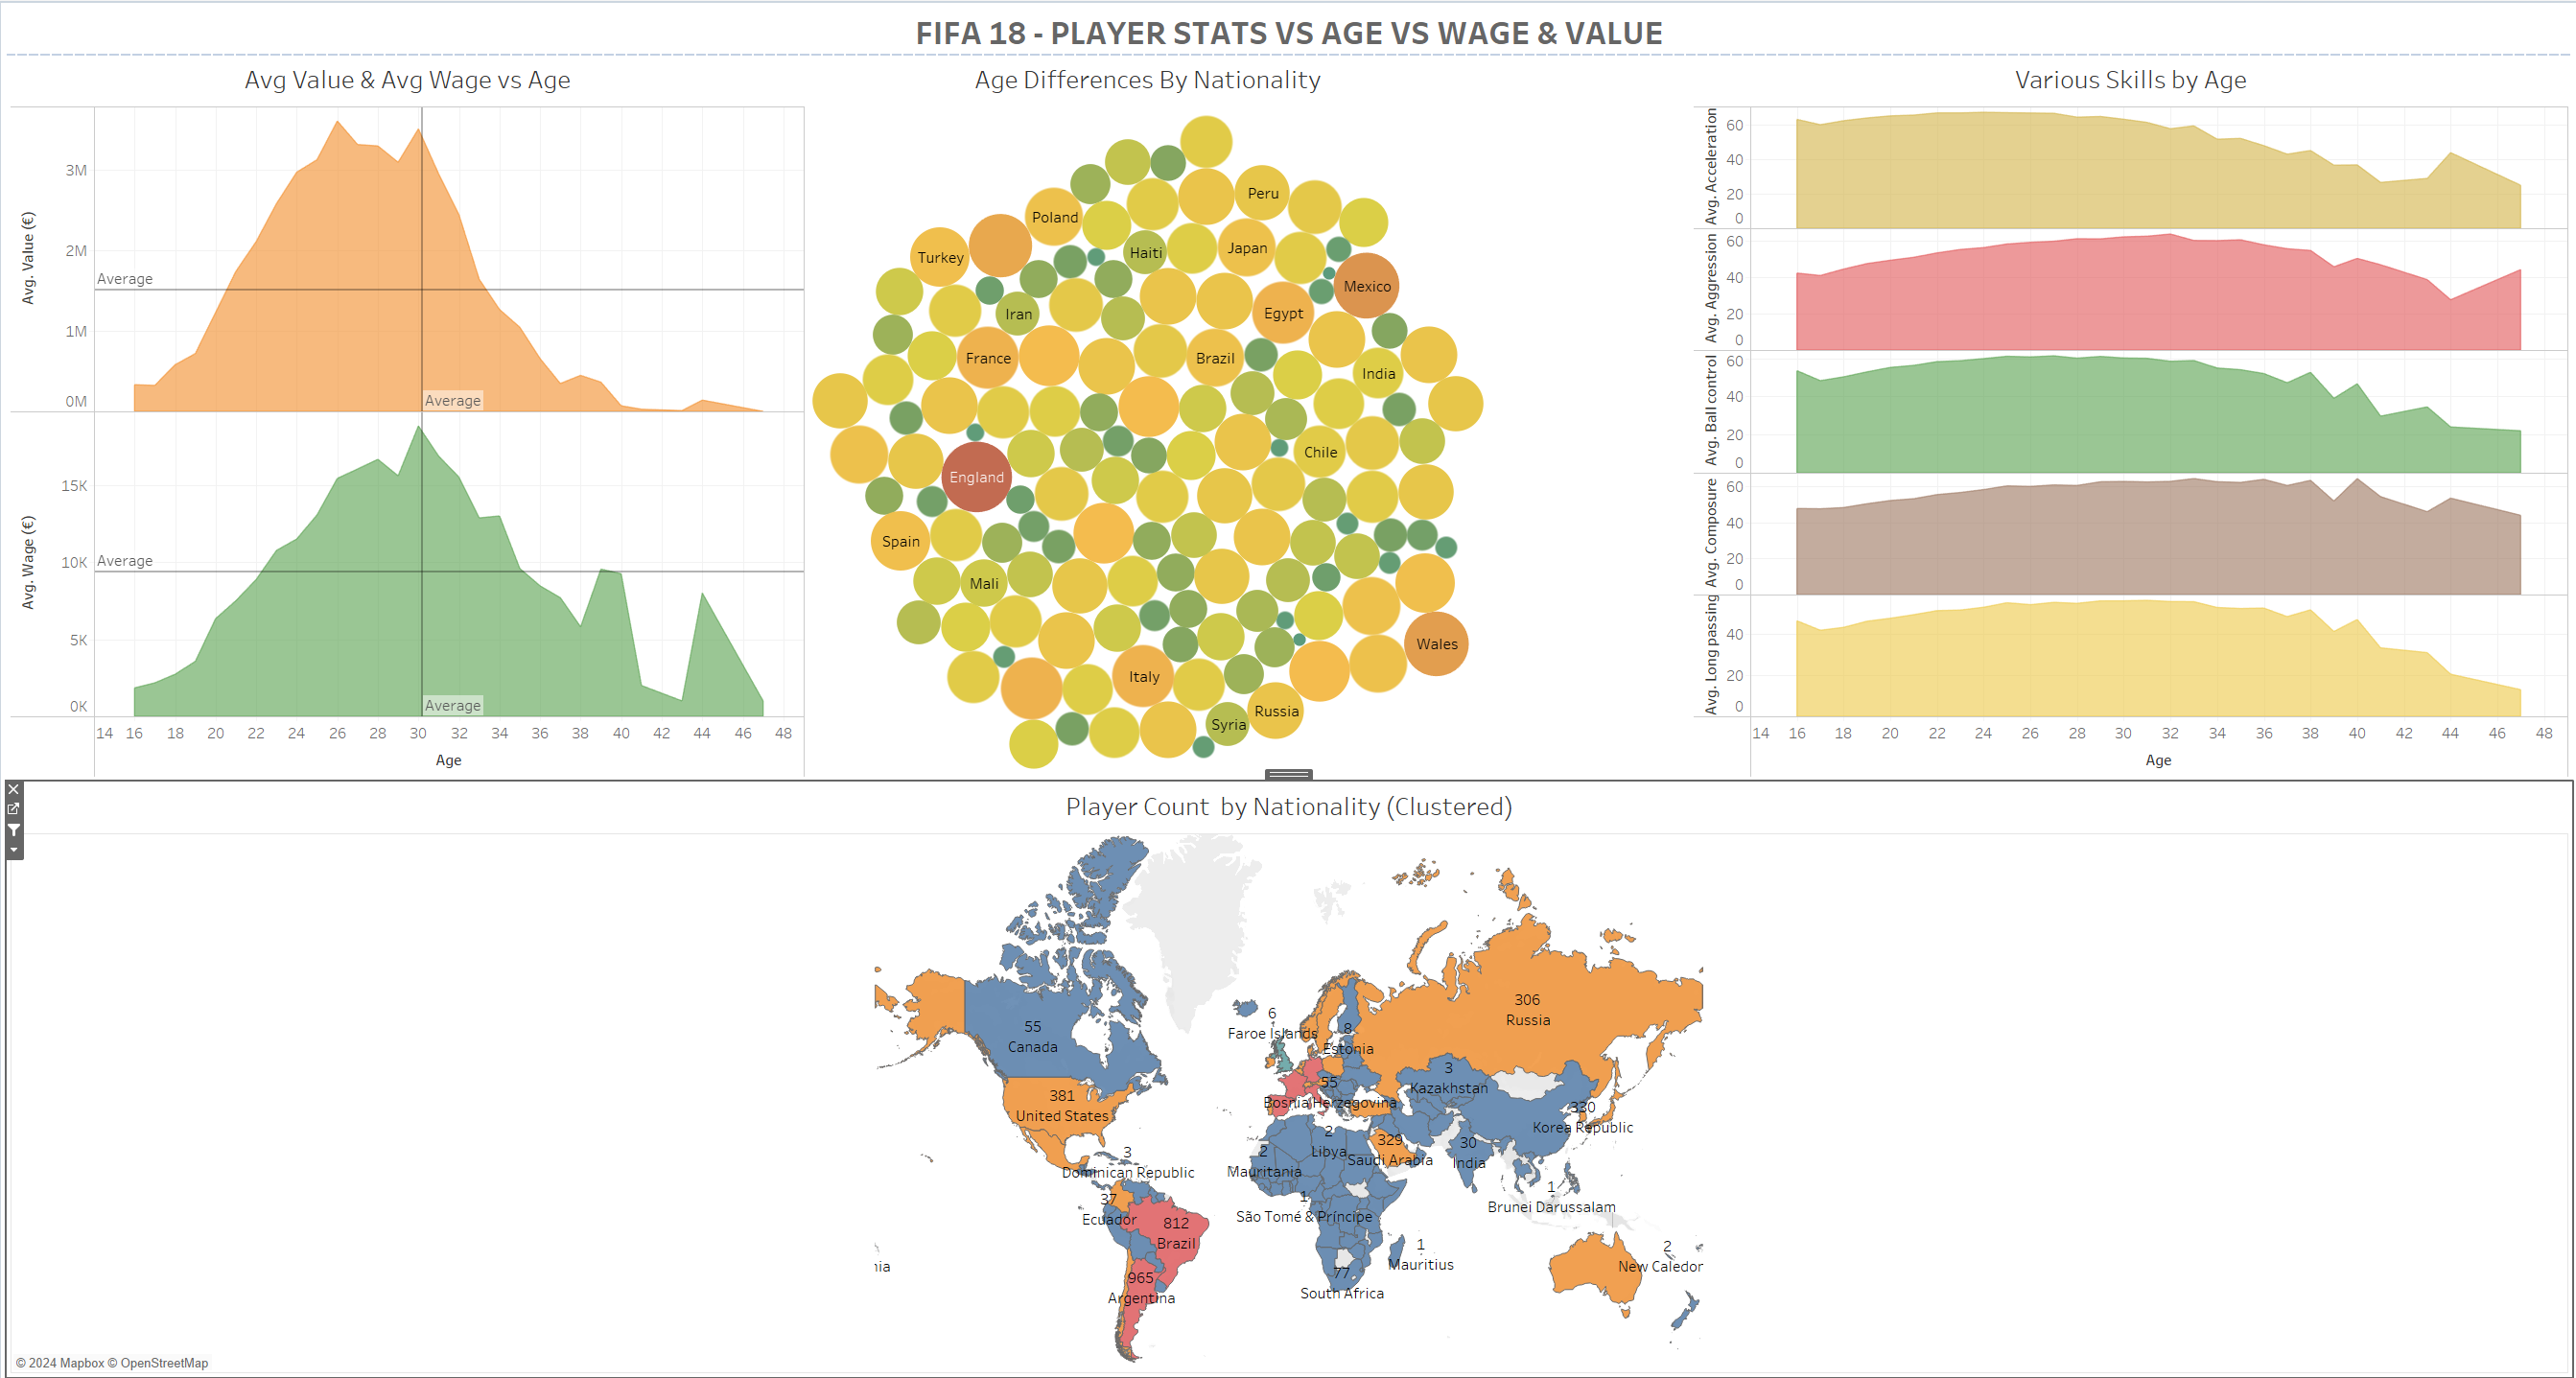

This screenshot's page, from the dashboard's own definition file:
{"tool":"tableau","page":{"name":"Dashboard 1","canvas":[1000,1000],"units":"permille","ordinal":0},"visuals":[{"type":"text","box":[2.7,4.9,994.6,33.3]},{"type":"worksheet","title":"Avg Value & Avg Wage vs Age","mark":"Area","rows":["Value (€)","Wage (€)"],"cols":["Age"],"box":[2.7,38.2,310.8,526]},{"type":"worksheet","title":"Age Differences By Nationality","mark":"Circle","box":[313.5,38.2,341.9,526]},{"type":"worksheet","title":"Various Skills by Age","mark":"Area","rows":["Acceleration","Aggression","Ball control","Composure","Long passing"],"cols":["Age"],"box":[655.4,38.2,341.9,526]},{"type":"worksheet","title":"Player Count  by Nationality (Clustered)","mark":"Multipolygon","box":[2.7,564.2,994.6,430.8]}]}

Visuals, with their boxes on the dashboard's canvas, which has no fixed pixel size, in thousandths of its width and height (x1, y1, x2, y2). These are canvas units, not pixel positions in the 2576x1378 screenshot, which may show the page scaled, cropped or inside an application window:
text: bbox=[3, 5, 997, 38]
"Avg Value & Avg Wage vs Age" worksheet (Area marks): bbox=[3, 38, 314, 564]
"Age Differences By Nationality" worksheet (Circle marks): bbox=[314, 38, 655, 564]
"Various Skills by Age" worksheet (Area marks): bbox=[655, 38, 997, 564]
"Player Count  by Nationality (Clustered)" worksheet (Multipolygon marks): bbox=[3, 564, 997, 995]
